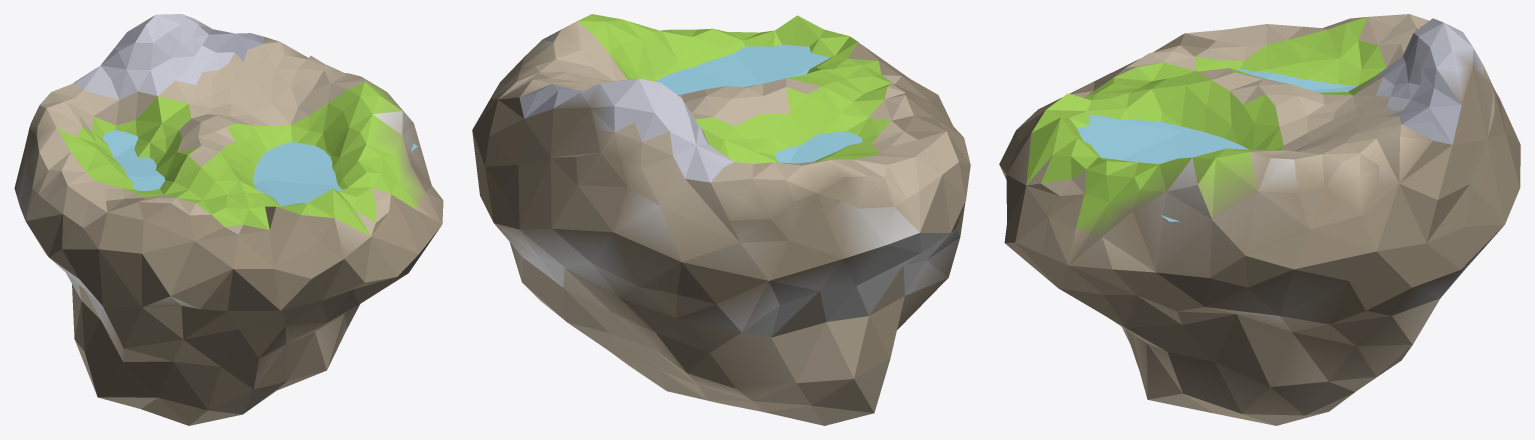
Rendered from landscape.gltf.
The picture shows the model from 3 angles, left to right: view 1: azimuth 30°, elevation 25°; view 2: azimuth 150°, elevation 25°; view 3: azimuth 270°, elevation 25°; orthographic projection. The views are drawn at different scales.
Visible parts, largest first — view 1: Icosphere, Plane; view 2: Icosphere, Plane; view 3: Icosphere, Plane.
Part boxes in pixels (<box>): Icosphere: <box>14,14,443,425</box>; Plane: <box>102,130,417,206</box>; Icosphere: <box>472,14,970,425</box>; Plane: <box>655,44,862,163</box>; Icosphere: <box>999,14,1520,425</box>; Plane: <box>1077,68,1357,221</box>.
Bounding box in the file's own units: 4.04 × 3.43 × 4.
